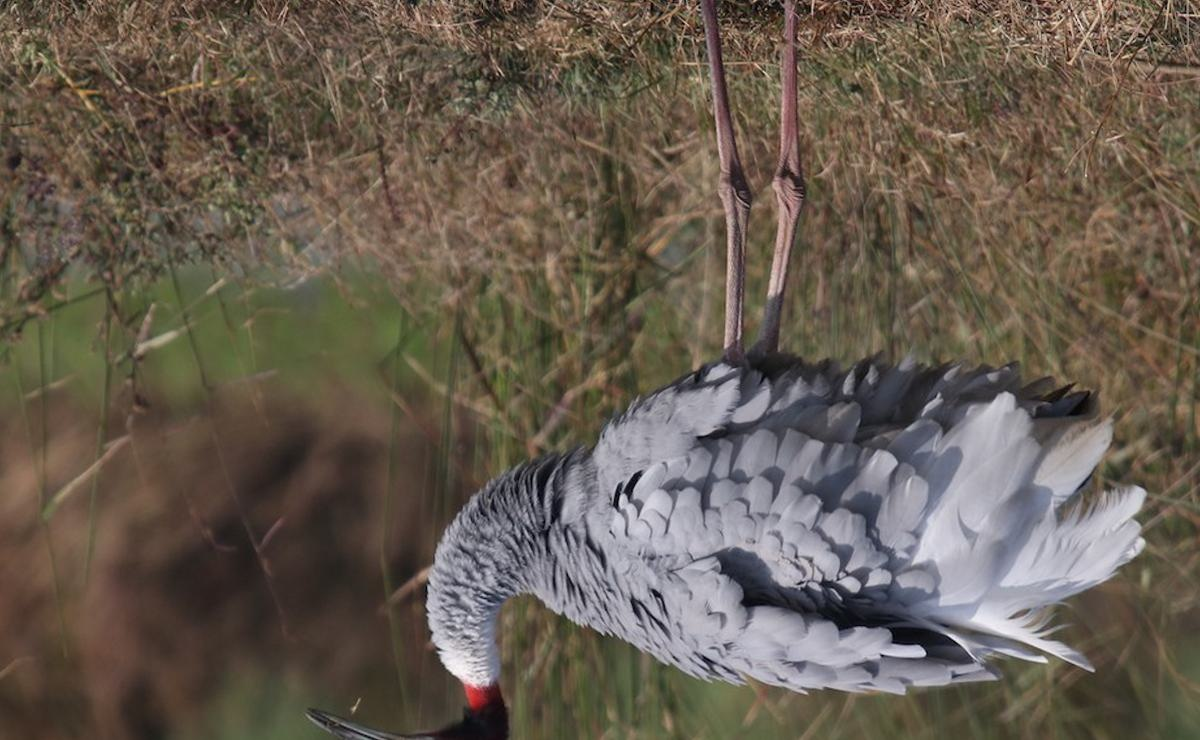crane: (297, 5, 1163, 740)
